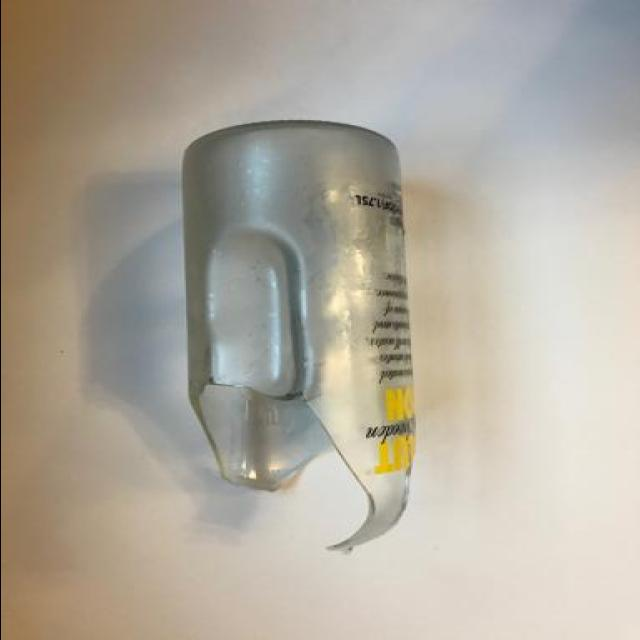glass: (178, 118, 406, 552)
